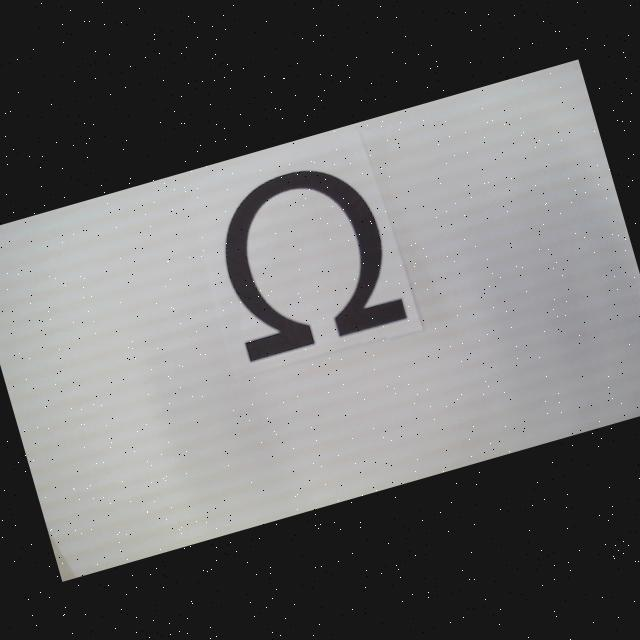OMEGA: (203, 152, 407, 363)
